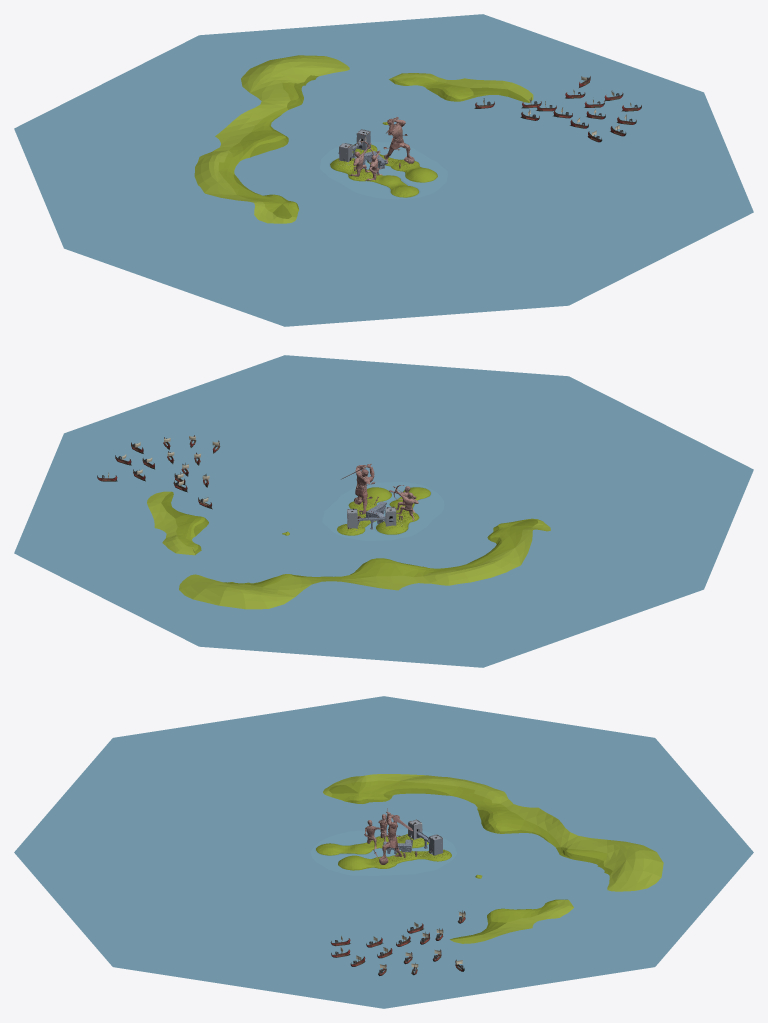
File: narrowHillsAlt.glb
The picture shows the model from 3 angles, top to bottom: view 1: azimuth 30°, elevation 25°; view 2: azimuth 150°, elevation 25°; view 3: azimuth 270°, elevation 25°; orthographic projection.
Parts seen in each view (by area): view 1: Plane, Plane.419, floor.002, floor; view 2: Plane, Plane.419, floor, floor.002; view 3: Plane, Plane.419, floor.002, floor.
Part boxes in pixels (x1,y1,x2,y2): Plane: (14,14,753,326); Plane.419: (194,55,533,223); floor.002: (367,159,437,197); floor: (330,144,400,181); Plane: (14,355,753,667); Plane.419: (147,491,550,609); floor: (337,509,419,535); floor.002: (348,487,430,511); Plane: (14,696,753,1008); Plane.419: (323,774,663,943); floor.002: (316,841,396,870); floor: (372,834,451,863).
Size of what is drawn, in the model's own units: 919 by 72.26 by 919.
